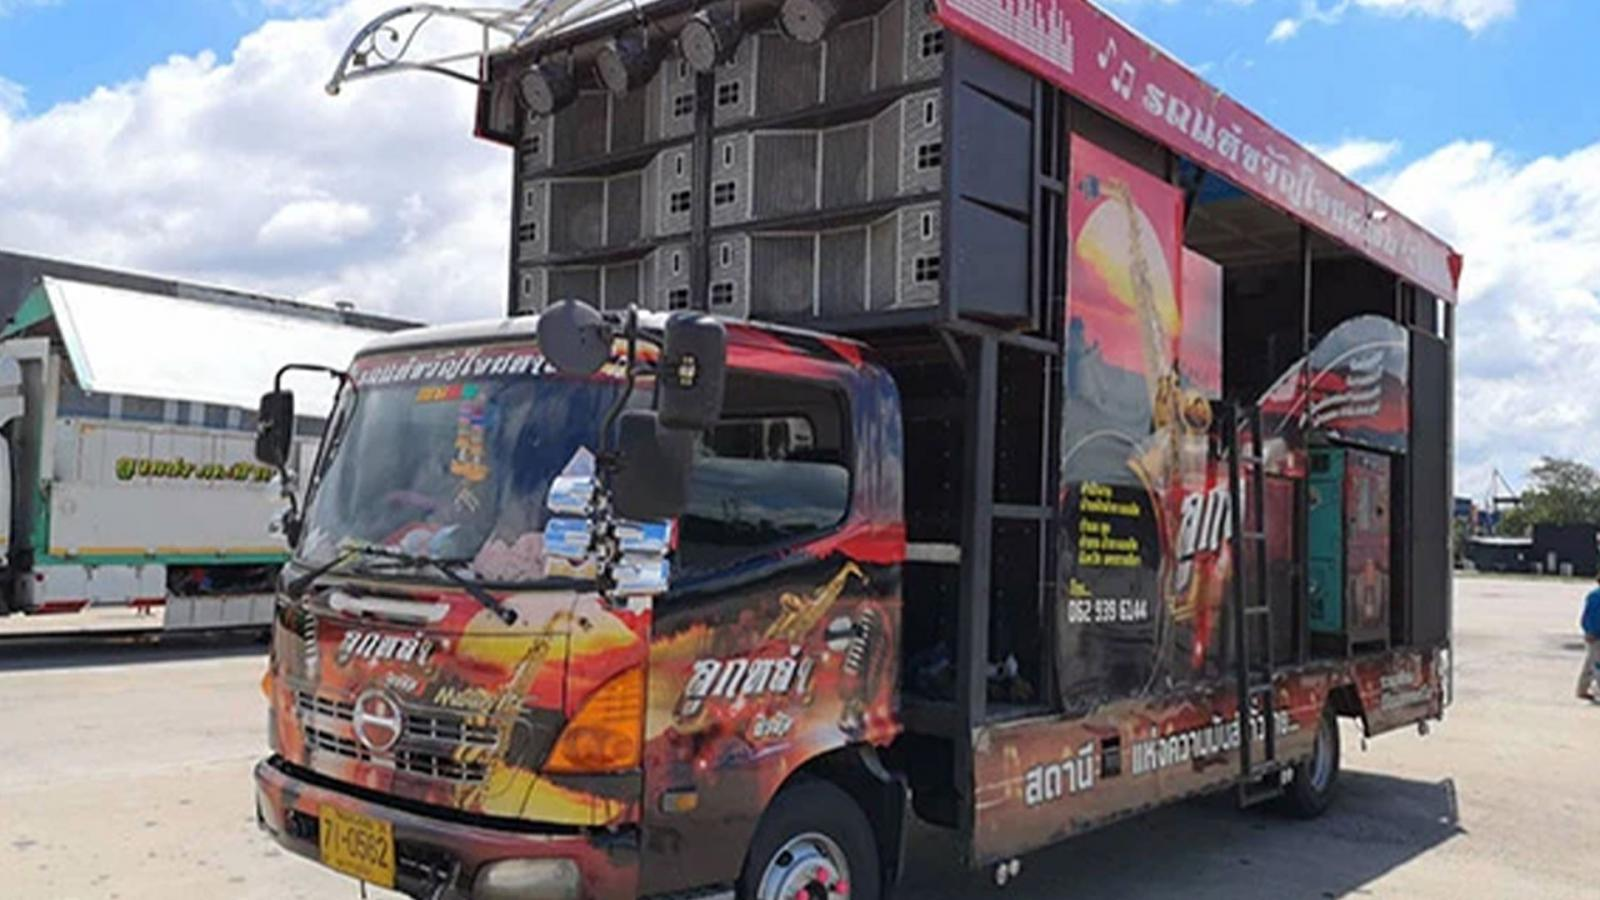truck: (235, 290, 927, 900)
